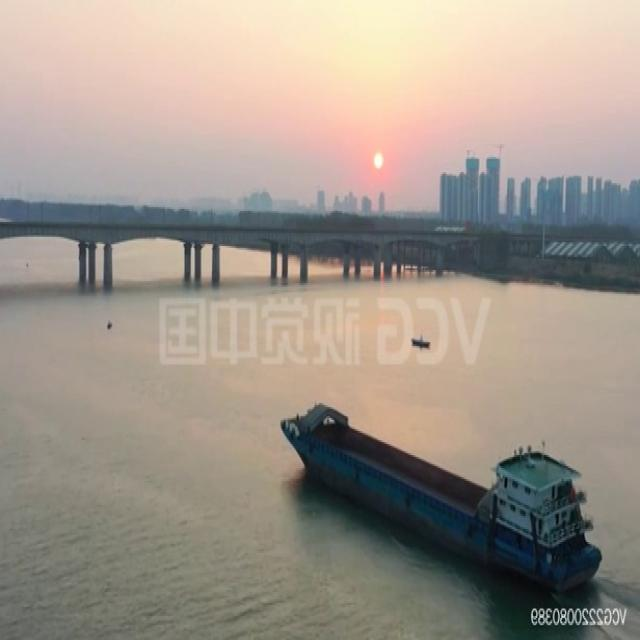cargoship: (274, 408, 600, 564)
